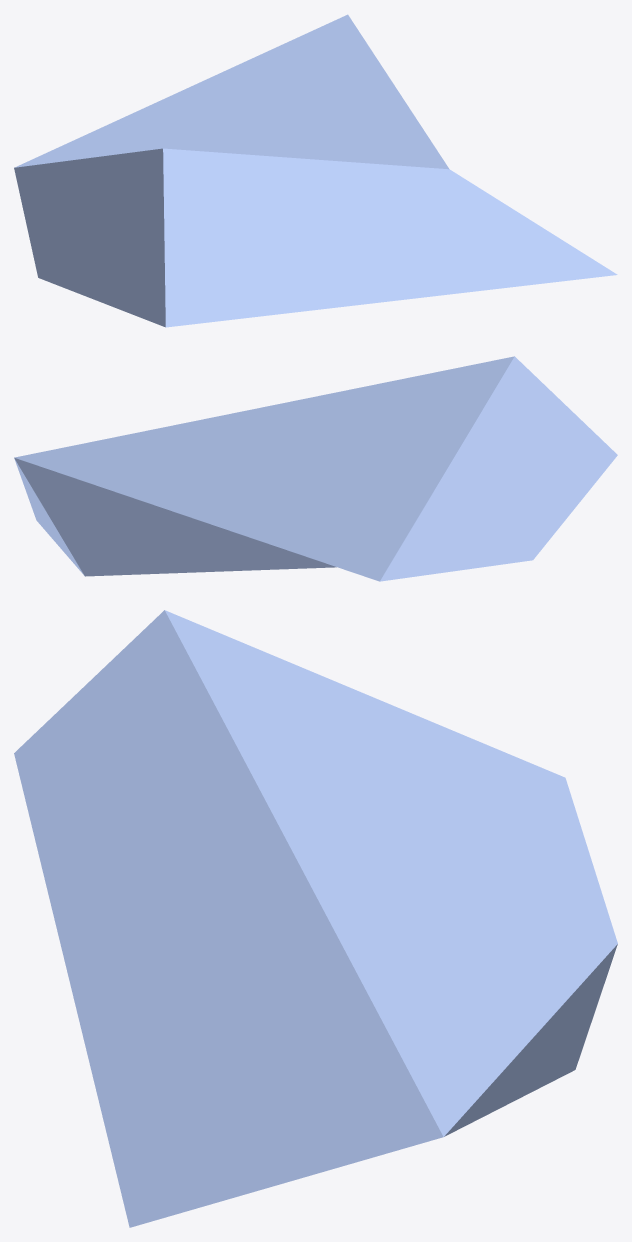
The model's file is Pebble 3.fbx.
3 views of the same model, one above another, from view 1: azimuth 30°, elevation 25°; view 2: azimuth 150°, elevation 25°; view 3: azimuth 270°, elevation 25° (orthographic). The views are drawn at different scales.
Visible parts, largest first — view 1: Cube.030; view 2: Cube.030; view 3: Cube.030.
Boxes of the visible parts, box(x1,y1,x2,y2) form: Cube.030: box(14, 14, 617, 327); Cube.030: box(14, 356, 617, 581); Cube.030: box(14, 610, 617, 1227).
Bounding box in the file's own units: 1.85 × 0.7741 × 1.34.
